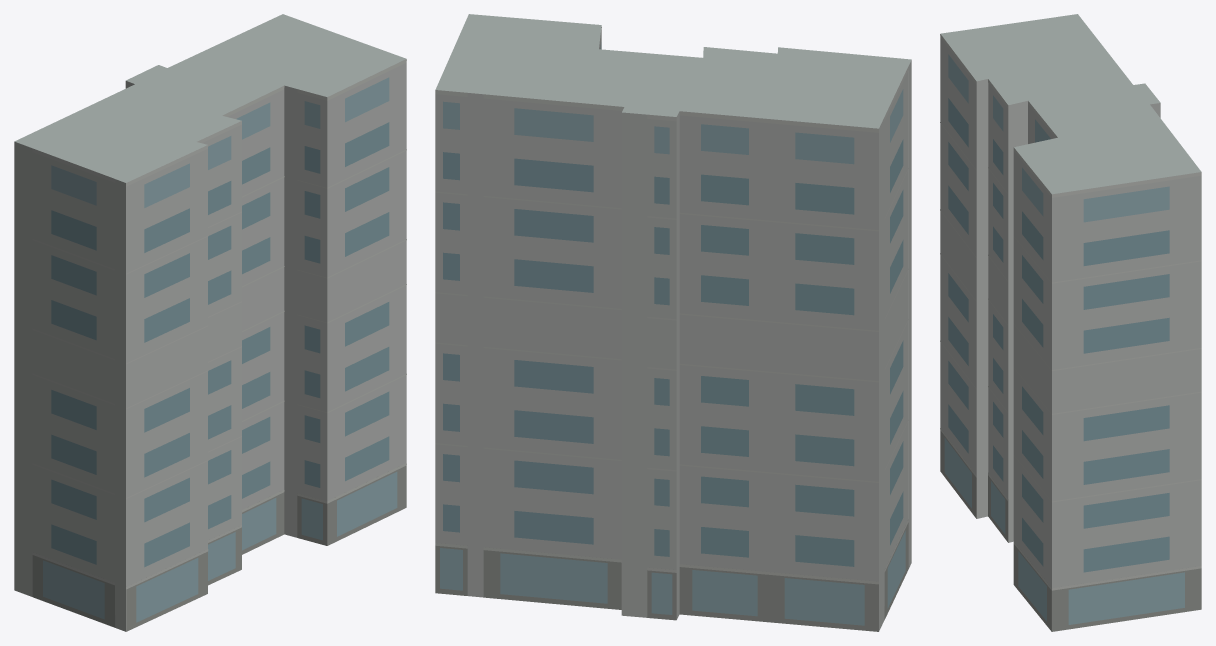
The model's file is survey-upis-32752016.glb.
The picture shows the model from 3 angles, left to right: view 1: azimuth 30°, elevation 25°; view 2: azimuth 150°, elevation 25°; view 3: azimuth 270°, elevation 25°; orthographic projection. The views are drawn at different scales.
Visible parts, largest first — view 1: survey-upis-32752016.tmp; view 2: survey-upis-32752016.tmp; view 3: survey-upis-32752016.tmp.
Boxes of the visible parts, x1,y1,x2,y2 form: survey-upis-32752016.tmp: [14, 14, 406, 631]; survey-upis-32752016.tmp: [435, 14, 911, 631]; survey-upis-32752016.tmp: [940, 14, 1201, 631].
Bounding box in the file's own units: 25.56 × 28.9 × 15.67.
